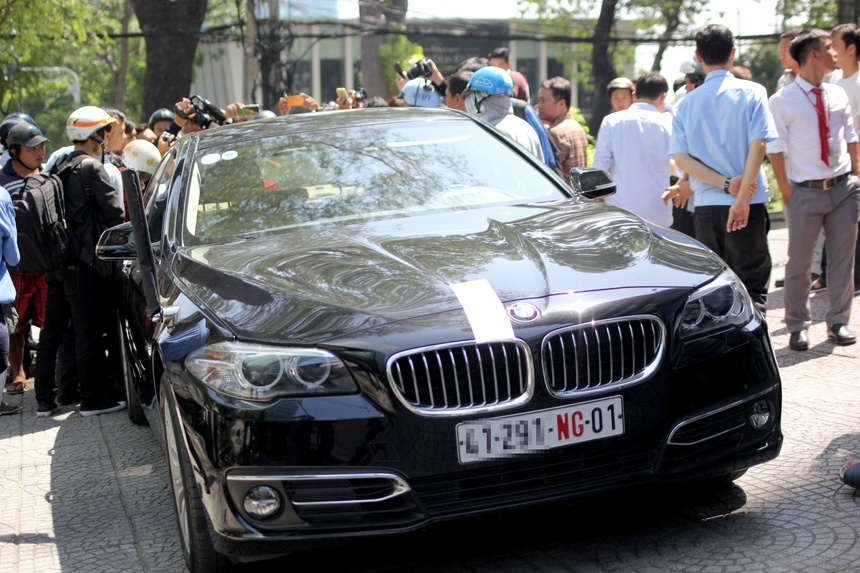plate: (452, 393, 627, 469)
